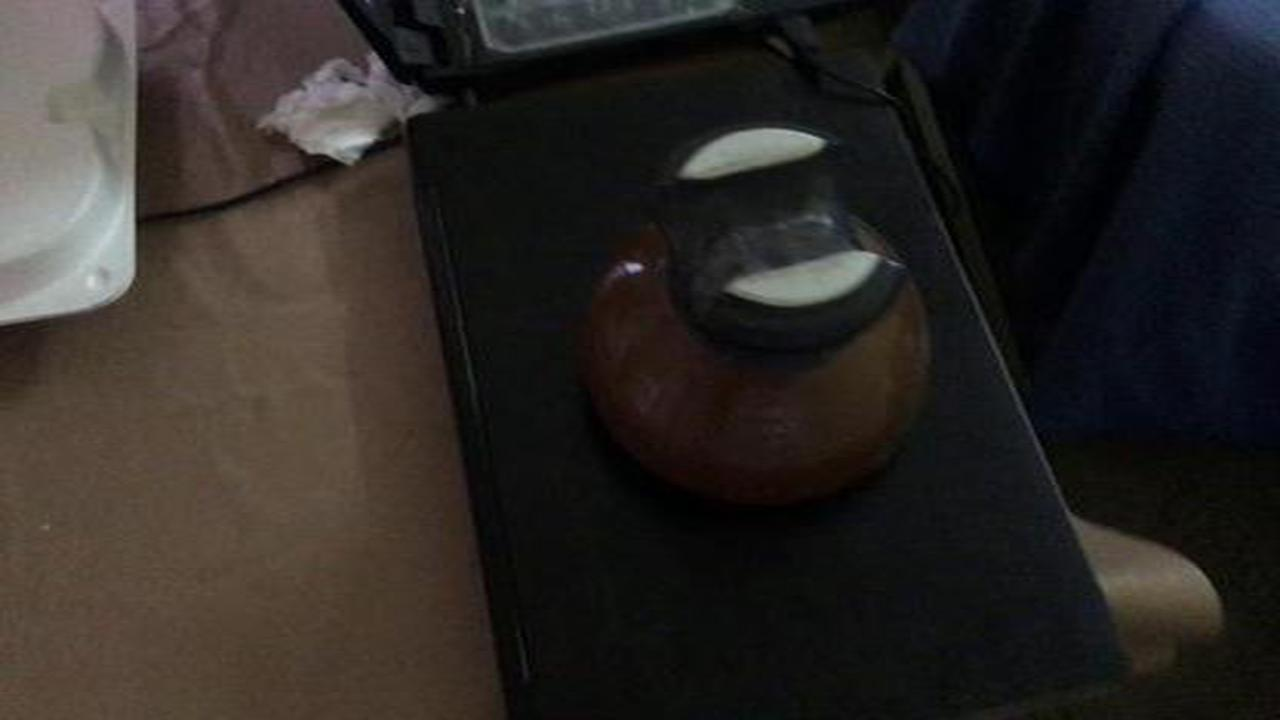insulator_pin: (545, 110, 954, 520)
